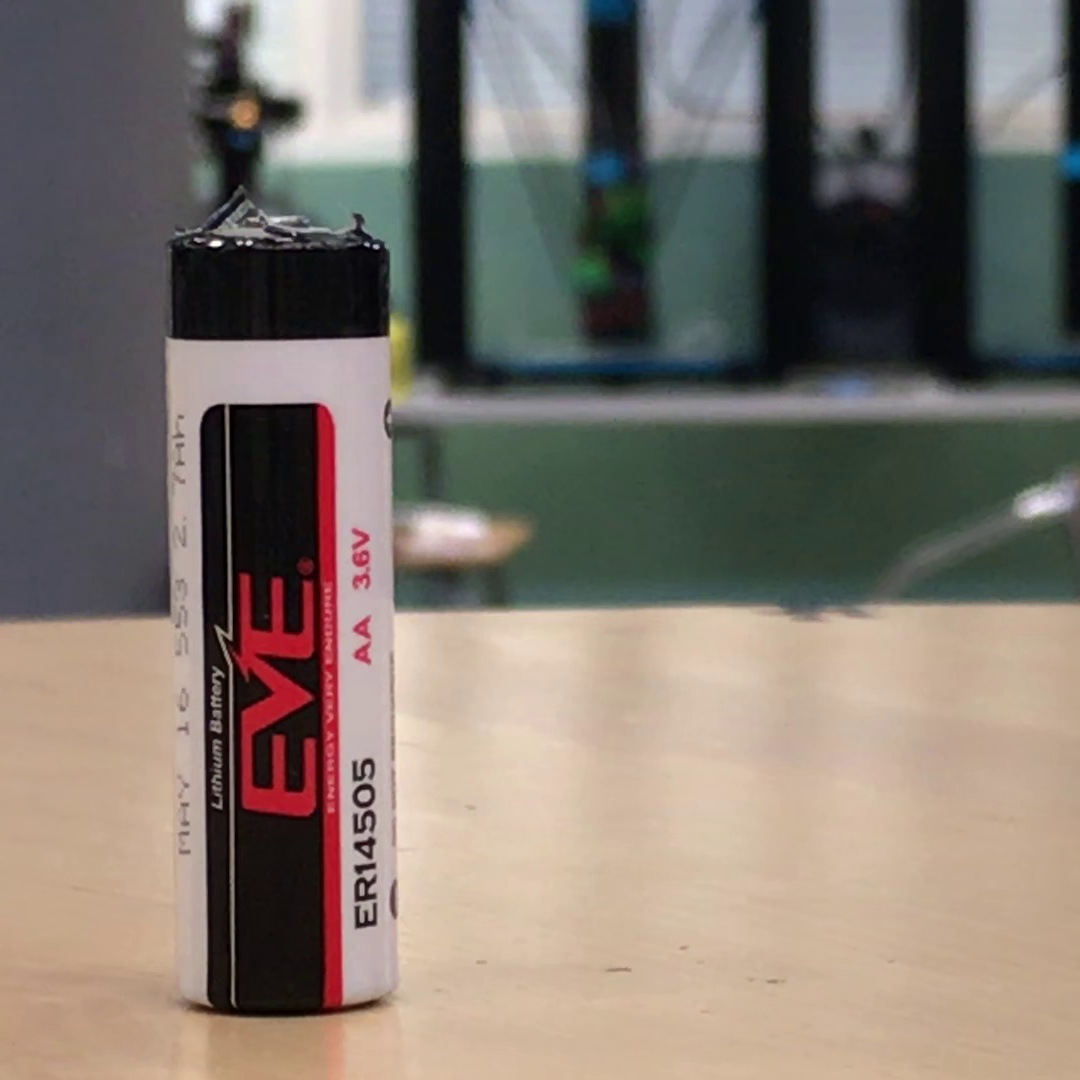keyword: (204, 731, 232, 819)
